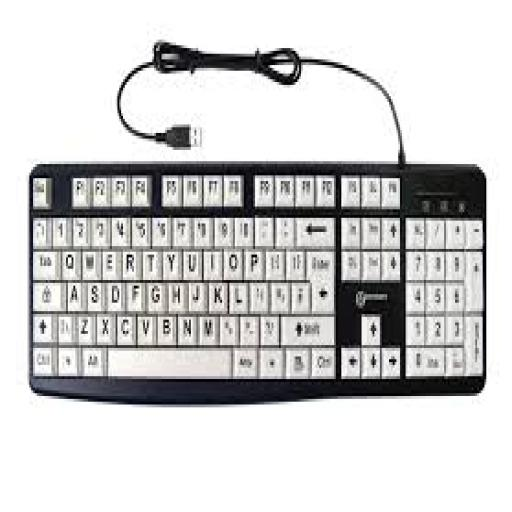KEYBOARD-2: (28, 161, 484, 402)
